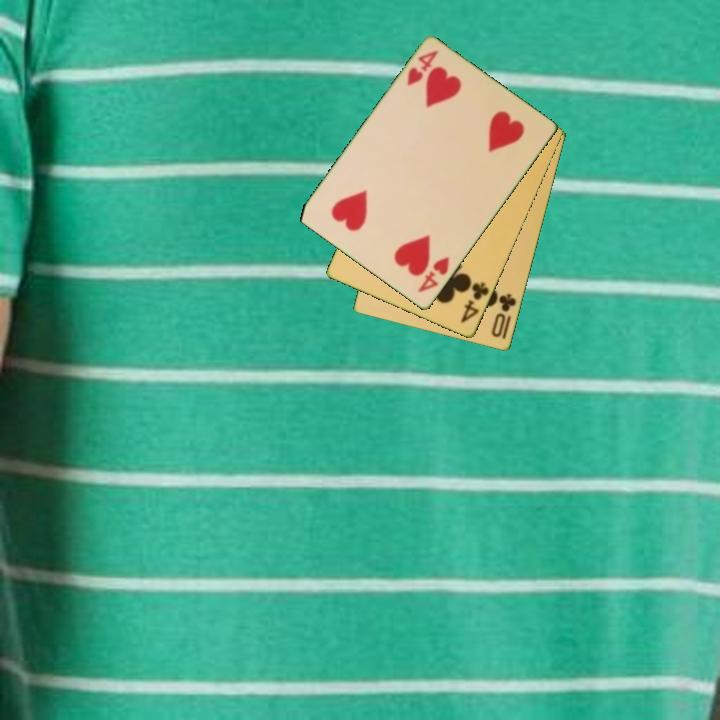10c: (488, 290, 519, 341)
4c: (457, 279, 492, 326)
4h: (414, 253, 452, 295), (403, 47, 441, 89)
